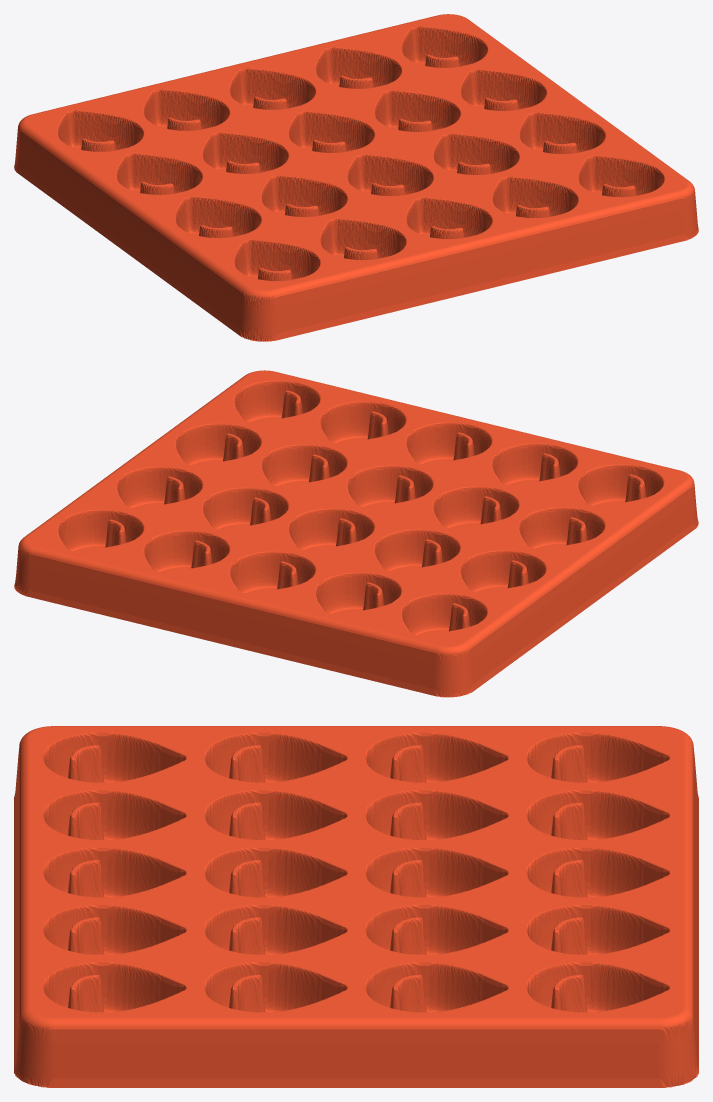
Rendered from mold.glb.
3 renders of one model, top to bottom at view 1: azimuth 30°, elevation 25°; view 2: azimuth 150°, elevation 25°; view 3: azimuth 270°, elevation 25°, orthographic. The views are drawn at different scales.
Parts seen in each view (by area): view 1: geometry_0; view 2: geometry_0; view 3: geometry_0.
Boxes of the visible parts, left/top/right/bottom form: geometry_0: left=14, top=14, right=698, bottom=341; geometry_0: left=14, top=370, right=698, bottom=697; geometry_0: left=14, top=726, right=698, bottom=1087.
Size of the model in its own units: 0.1643 by 0.0159 by 0.1563.
